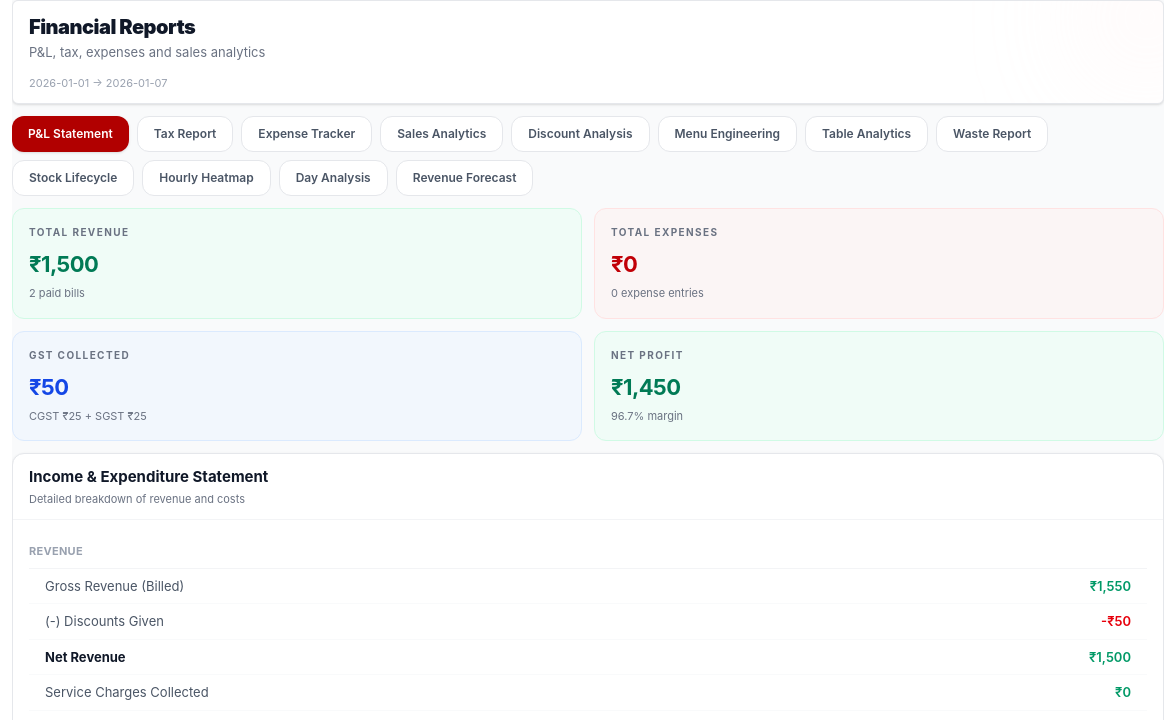
Test: Reports page — characterisation › renders the Expense Tracker tab's own content
Click the button "Expense Tracker" at (307, 134), box [241, 116, 372, 152]
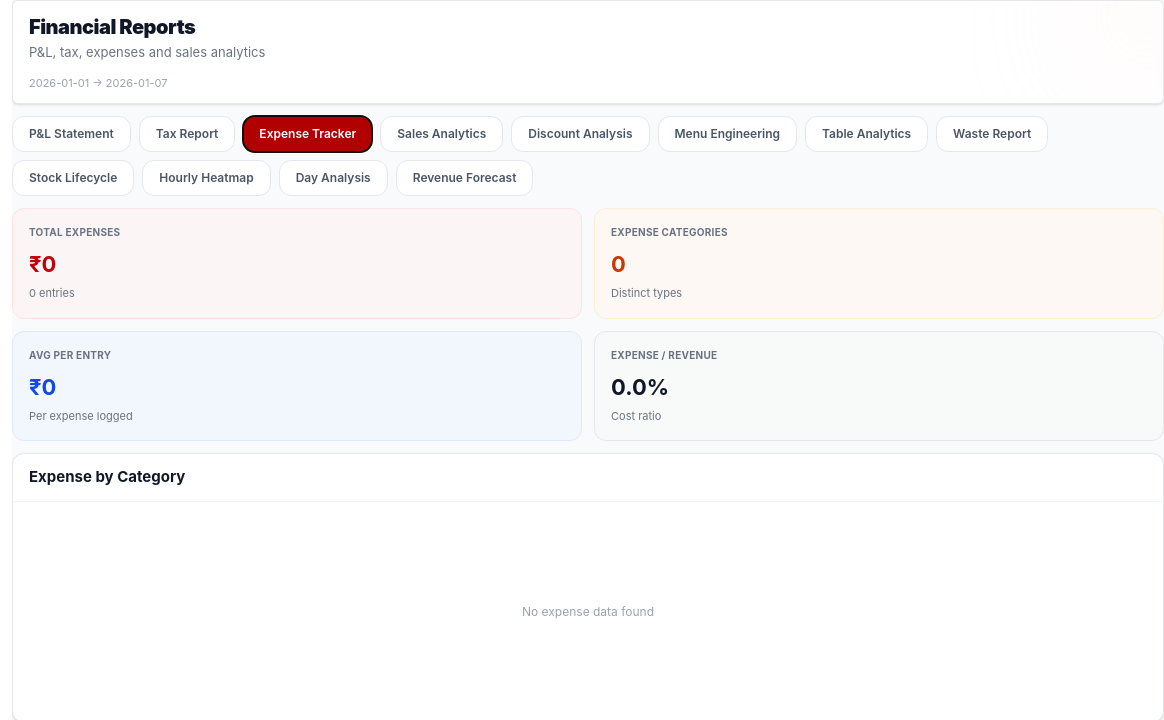
Result: the text "Cost ratio" is shown at [611, 408, 661, 422]
